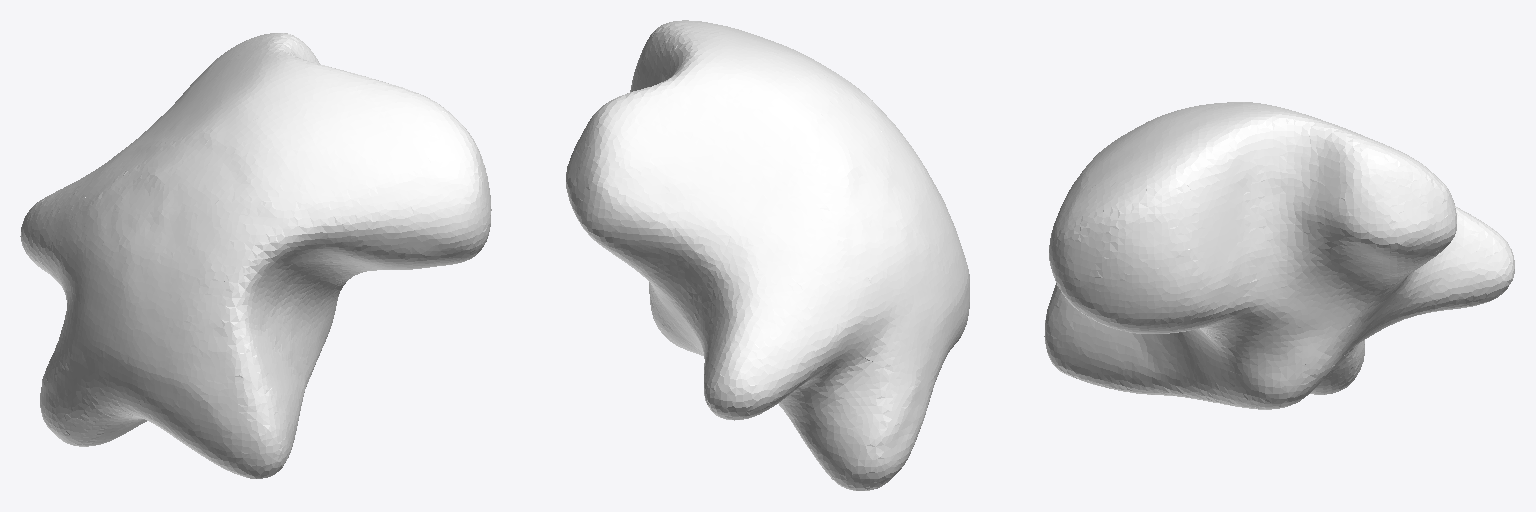
URDF robot description (feelie4):
<robot name="feelie4">
	<link name="_name">
		<visual>
			<origin rpy="0 0 0" xyz="0.0030532698778454534 0.005078339500864711 -0.0033856189596561414" />
			<geometry>
				<mesh filename="feelie4.obj" scale="0.001 0.001 0.001" />
			</geometry>
			<material name="texture">
				<color rgba="1.0 1.0 1.0 1.0" />
			</material>
		</visual>
		<collision>
			<geometry>
				<mesh filename="feelie4_vhacd.obj" scale="0.001 0.001 0.001" />
			</geometry>
		<origin rpy="0 0 0" xyz="0.0030532698778454534 0.005078339500864711 -0.0033856189596561414" /></collision>
		<inertial>
			<mass value="1.0" />
			<inertia ixx="1.0" ixy="0.0" ixz="0.0" iyy="1.0" iyz="0.0" izz="1.0" />
		</inertial>
	</link>
</robot>

--- Render facts (derived) ---
Views: 3 orthographic renders of the robot side by side, from view 1: azimuth 30°, elevation 25°; view 2: azimuth 150°, elevation 25°; view 3: azimuth 270°, elevation 25°.
Model feelie4 with 1 links and 0 joints (none), rooted at _name, posed all joints at 0.
Visible links, largest first — view 1: _name; view 2: _name; view 3: _name.
Link boxes in pixels (x1,y1,x2,y2): _name: [20, 33, 491, 478]; _name: [566, 20, 969, 490]; _name: [1044, 102, 1514, 409].
Bounding box of the posed robot: 0.0745 × 0.0854 × 0.0734 m (x, y, z).
Meshes: 1 distinct files referenced, 1 mesh visuals loaded (1 OBJ).
